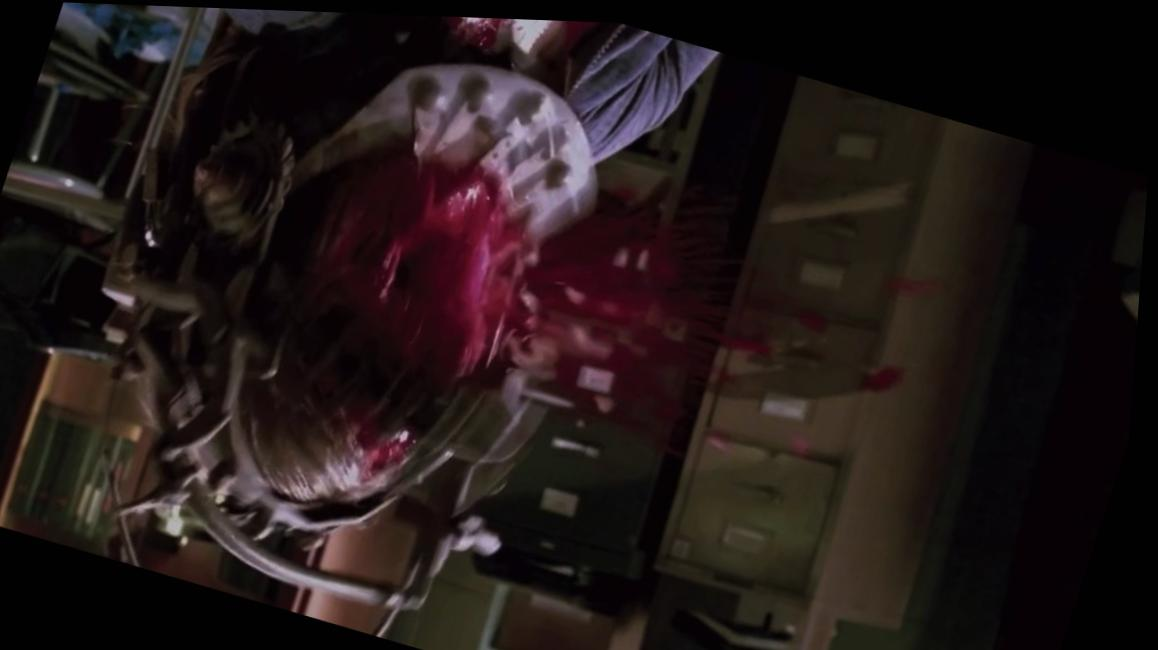Fire: (312, 148, 720, 543), (444, 13, 512, 51)
